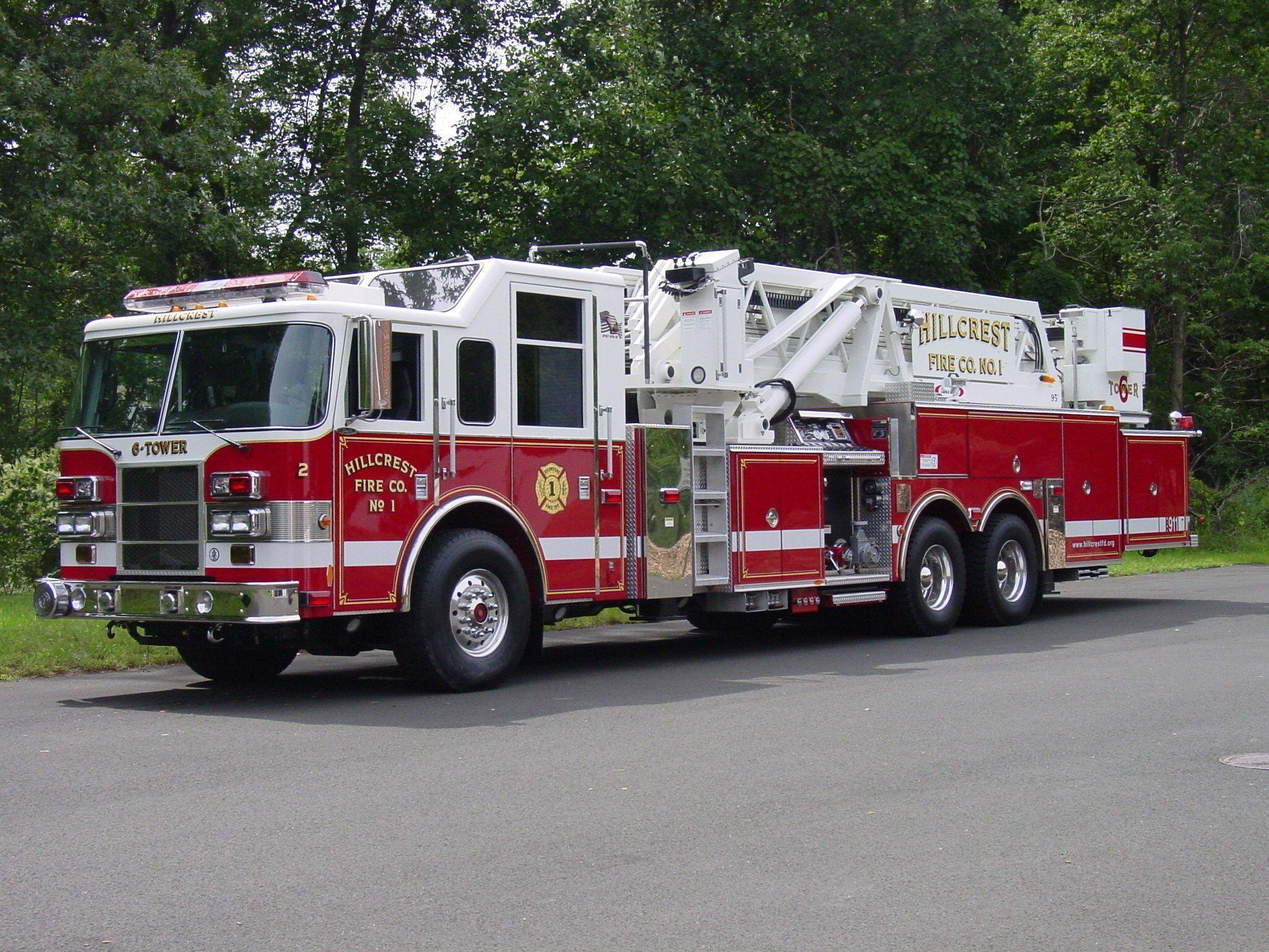Fire-engine: (33, 246, 1200, 695)
